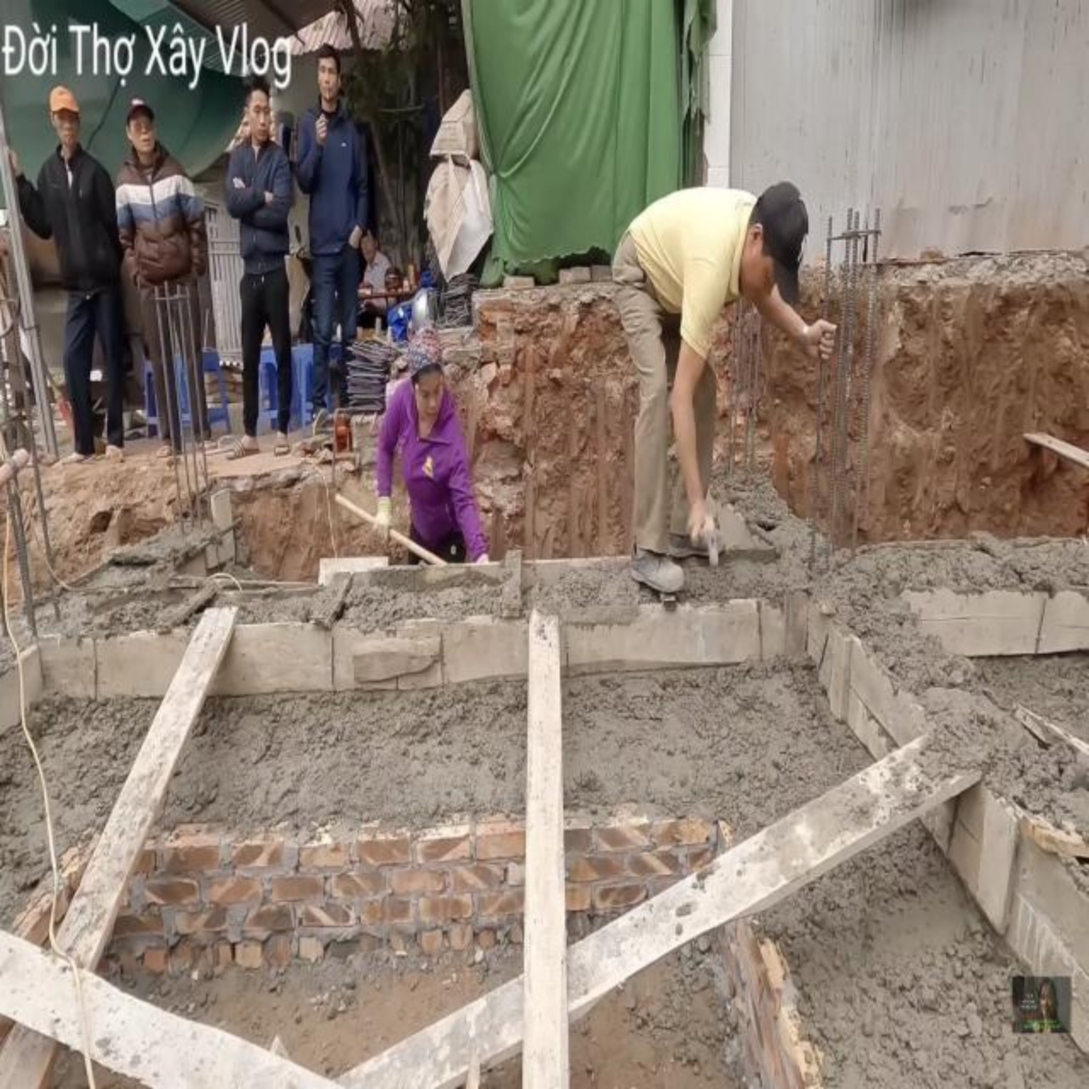no_helmet: (738, 181, 810, 302), (405, 327, 446, 429)
no_vest: (632, 184, 763, 354), (377, 379, 484, 554)
person: (612, 180, 838, 606), (374, 323, 490, 575)
